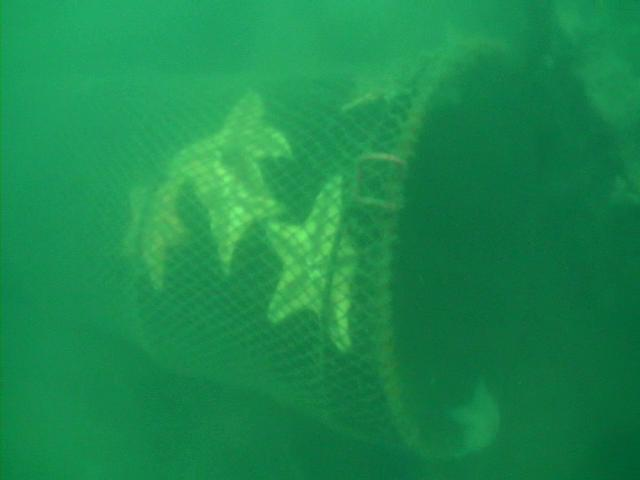spring fish trap: (0, 36, 524, 463)
